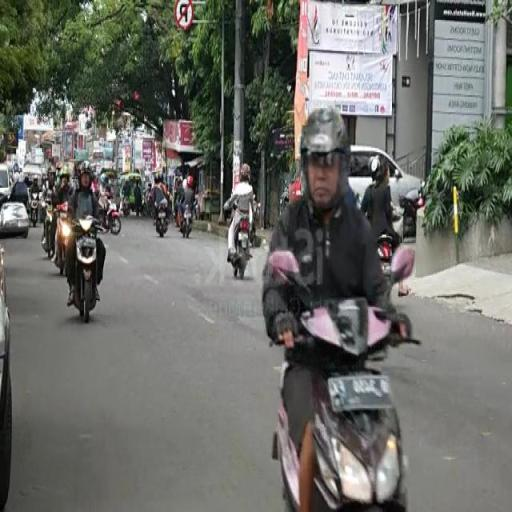Helmet: (298, 108, 351, 214), (78, 162, 94, 189), (239, 161, 251, 184)
Motor: (276, 296, 404, 512), (75, 213, 102, 323), (229, 214, 249, 280)
